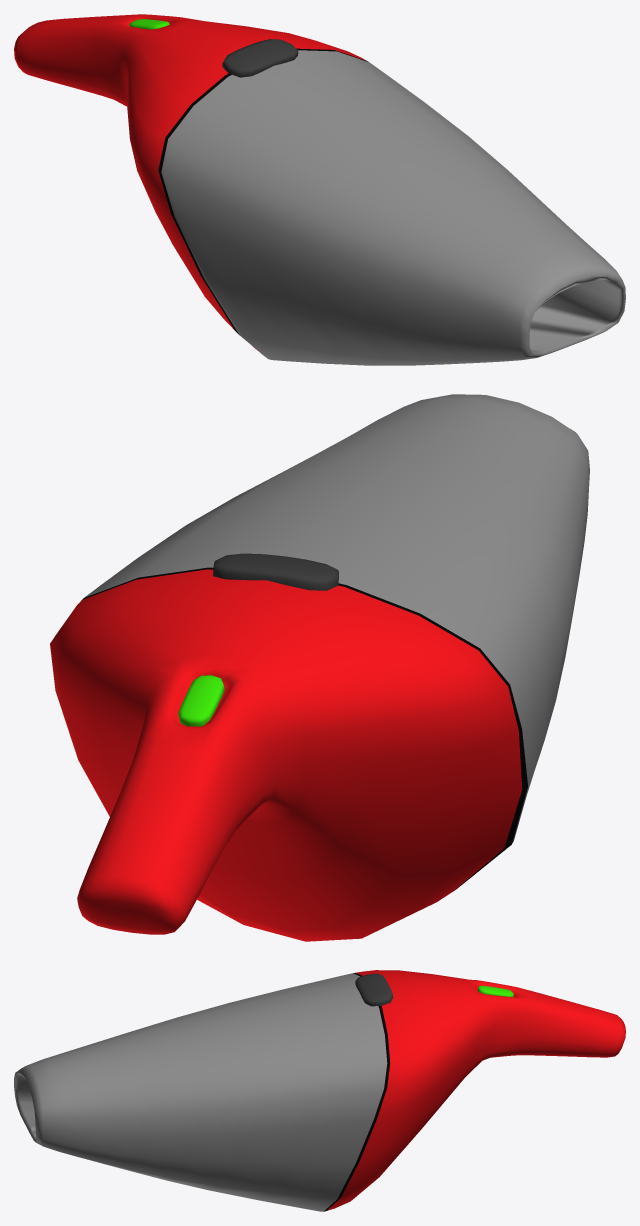
Rendered from HandVacuum.fbx.
3 views of the same model, one above another, from view 1: azimuth 30°, elevation 25°; view 2: azimuth 150°, elevation 25°; view 3: azimuth 270°, elevation 25° (orthographic). The views are drawn at different scales.
Visible parts, largest first — view 1: Cube.008; view 2: Cube.008; view 3: Cube.008.
Boxes of the visible parts, x1,y1,x2,y2 form: Cube.008: (14, 14, 625, 365); Cube.008: (50, 394, 589, 941); Cube.008: (14, 970, 625, 1211).
Bounding box in the file's own units: 14.25 × 13.31 × 35.3.
